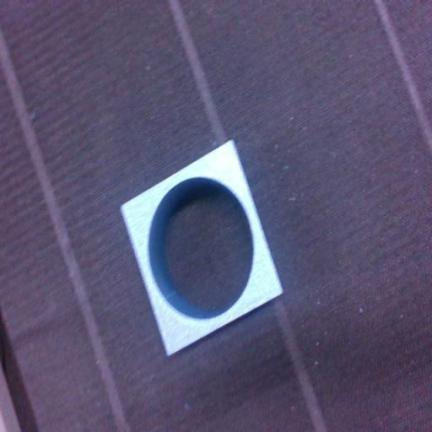square: (121, 140, 282, 355), (122, 141, 282, 355), (122, 141, 282, 354)
